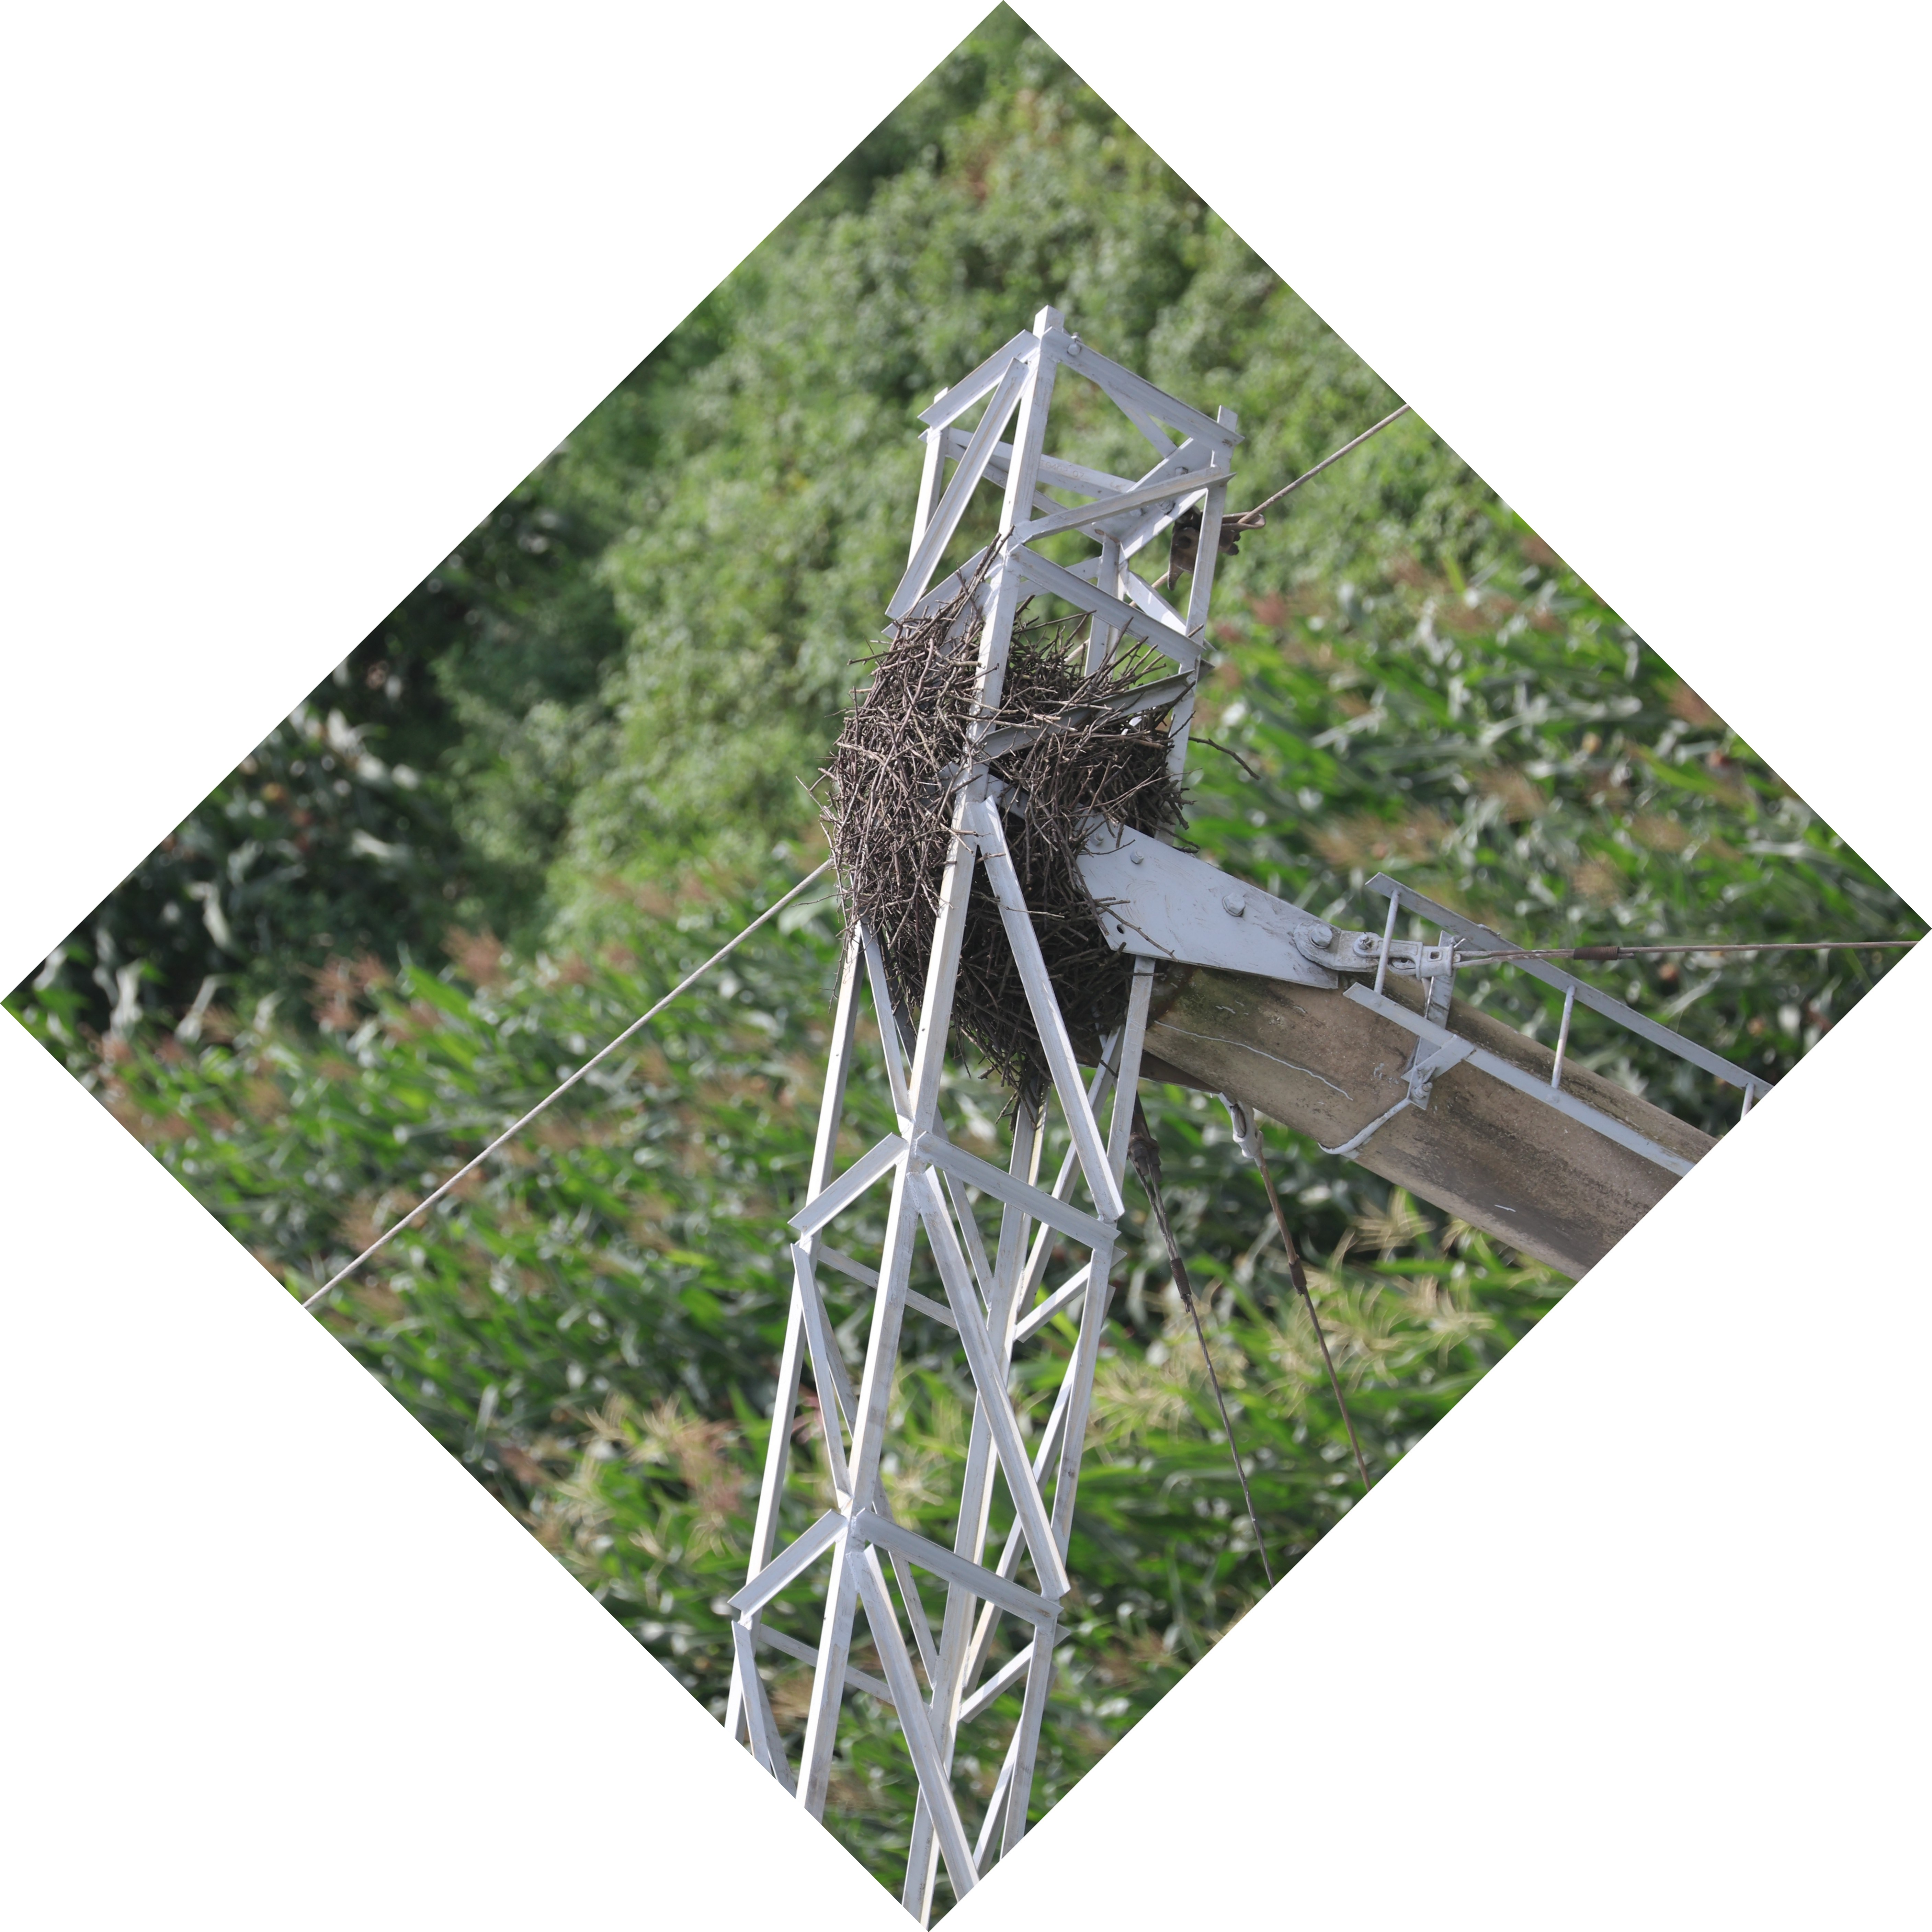niaowo: (759, 584, 1254, 1134)
